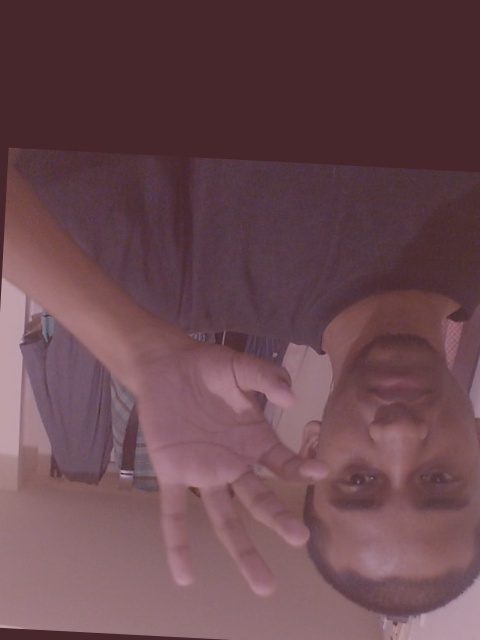hand: (109, 338, 334, 600)
